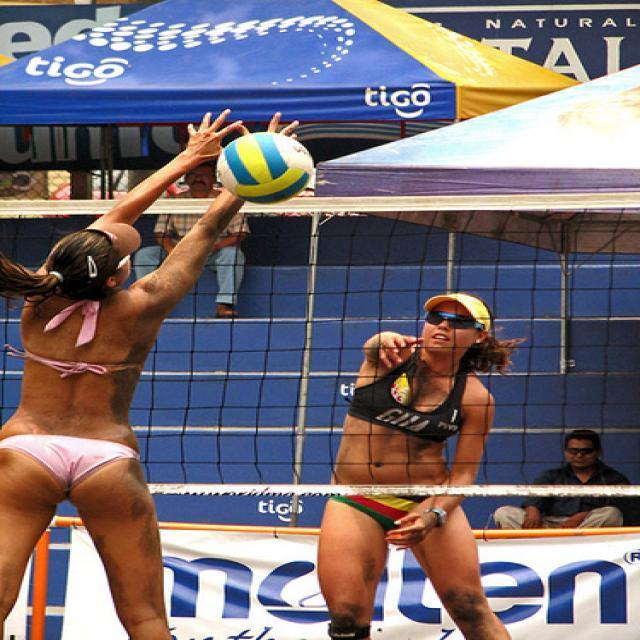volleyball: (217, 132, 314, 206)
